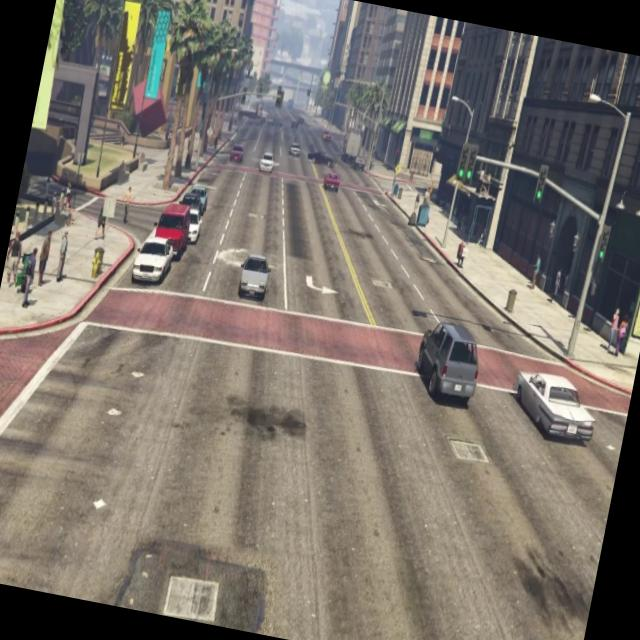Green-Signal: (444, 130, 486, 203), (588, 218, 618, 278), (526, 158, 554, 217)
